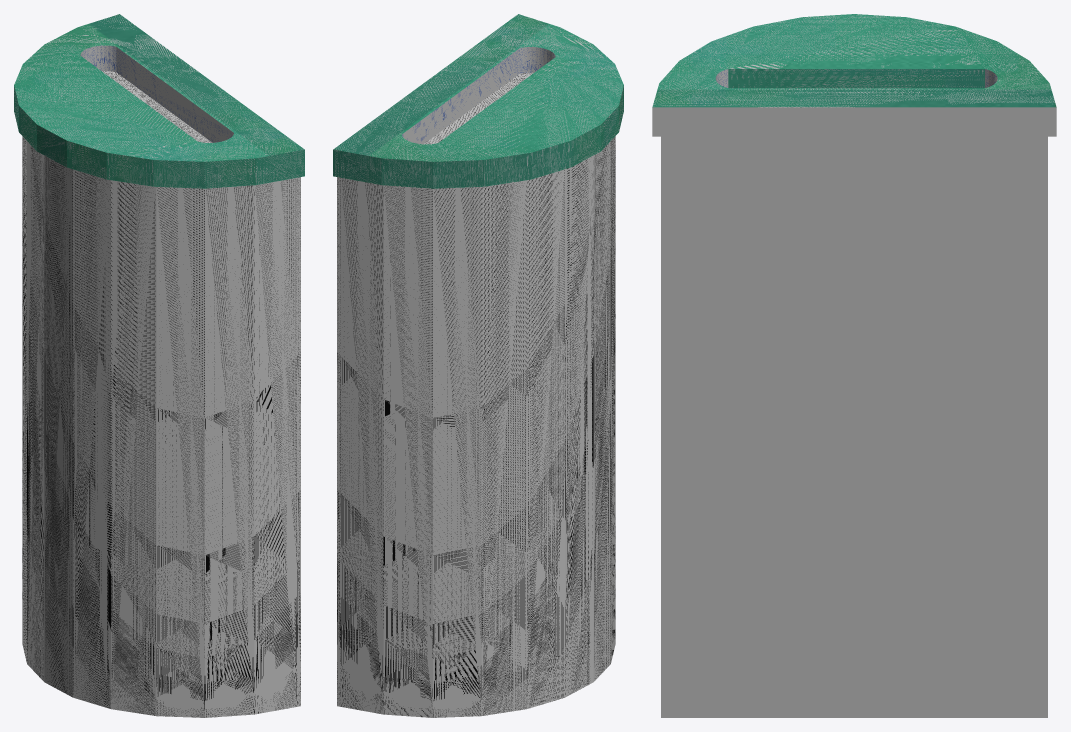
3 views of the same model, side by side, from view 1: azimuth 30°, elevation 25°; view 2: azimuth 150°, elevation 25°; view 3: azimuth 270°, elevation 25° (orthographic). The views are drawn at different scales.
Visible parts, largest first — view 1: mesh1_mesh1-geometry; view 2: mesh1_mesh1-geometry; view 3: mesh1_mesh1-geometry.
Boxes of the visible parts, x1=… form: mesh1_mesh1-geometry: x1=14, y1=14, x2=304, y2=717; mesh1_mesh1-geometry: x1=333, y1=14, x2=623, y2=717; mesh1_mesh1-geometry: x1=652, y1=14, x2=1056, y2=717.
Size of the model in its own units: 0.2708 by 0.8255 by 0.4953.
